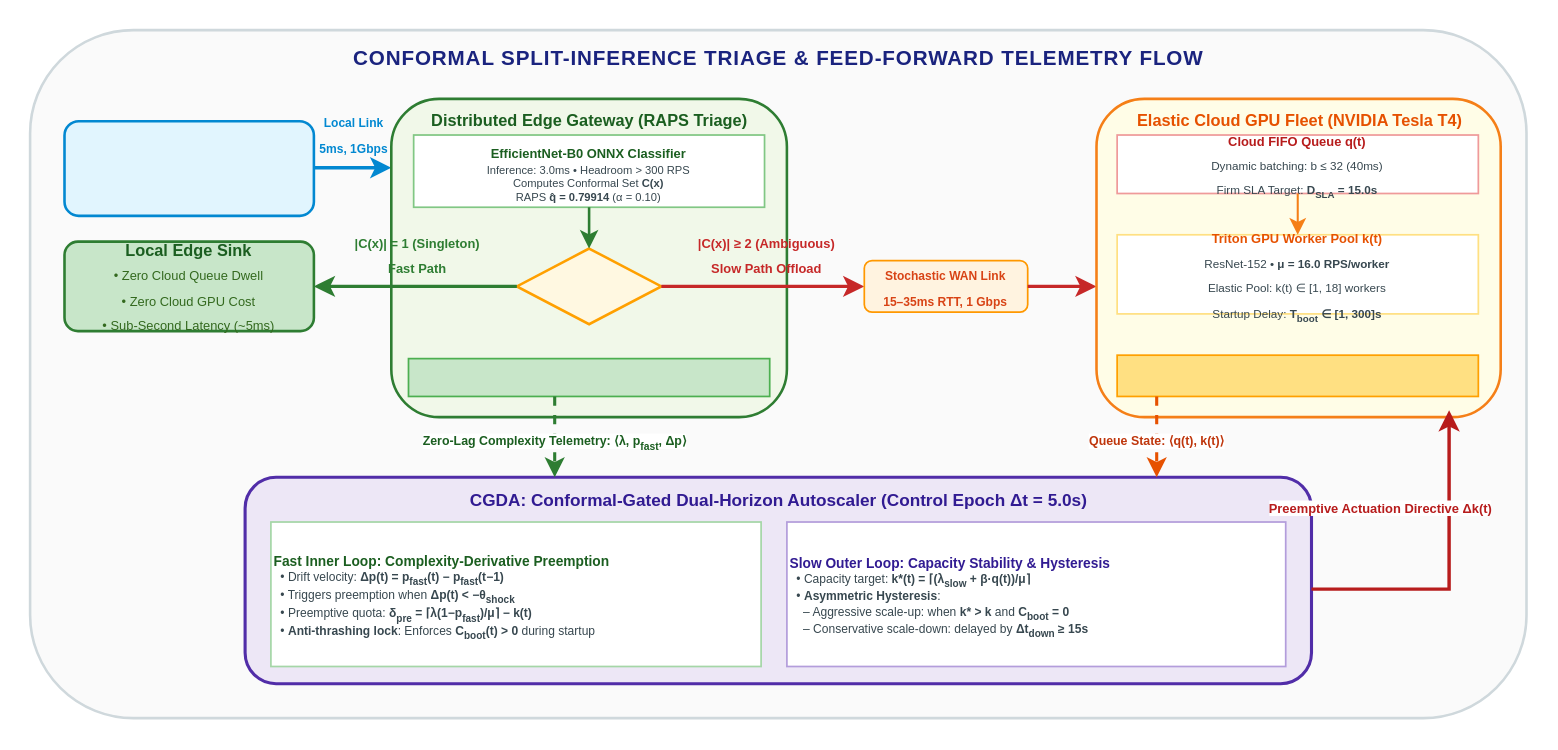
Image size: 1558x750. Some labels were removed from this diagram. Each missing label, with the box of its shape:
Cardinality |C(x)|: (515, 246, 662, 325)
Cloud Telemetry Hook: Monitors queue backlog q(t) and active workers k(t): (1115, 353, 1478, 396)
Edge Telemetry Hook: Measures local triage ratio p fast (t) and velocity Δp(t): (407, 357, 770, 396)
Ingress Stream λ(t) Tiny ImageNet-C Payloads Azure 2019 / Poisson Dynamics: (62, 119, 314, 216)
